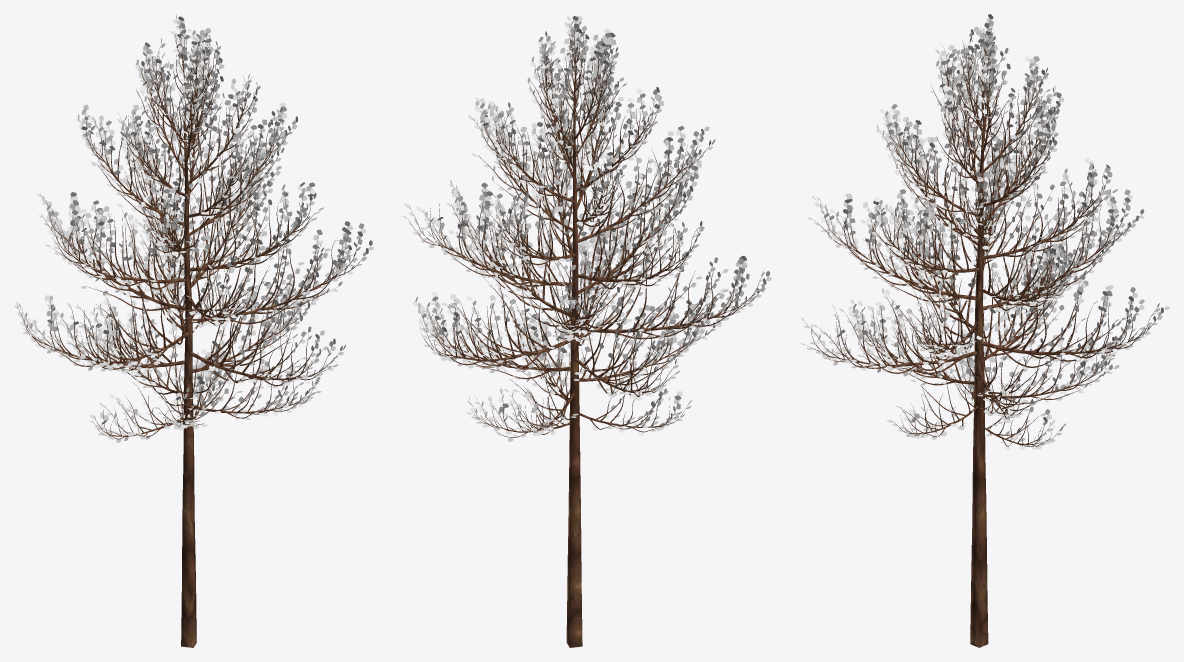
The model's file is MidTree.glb.
3 renders of one model, left to right at view 1: azimuth 30°, elevation 25°; view 2: azimuth 150°, elevation 25°; view 3: azimuth 270°, elevation 25°, orthographic.
Visible parts, largest first — view 1: leaves, tree; view 2: leaves, tree; view 3: leaves, tree.
Part boxes in pixels (x1,y1,x2,y2): leaves: (14,14,373,442); tree: (18,22,365,647); leaves: (402,15,771,441); tree: (408,24,767,647); leaves: (801,14,1169,450); tree: (805,22,1160,647).
Size of the model in its own units: 9.21 by 18.12 by 9.69.
Materials: 1 (1 with a texture image).
